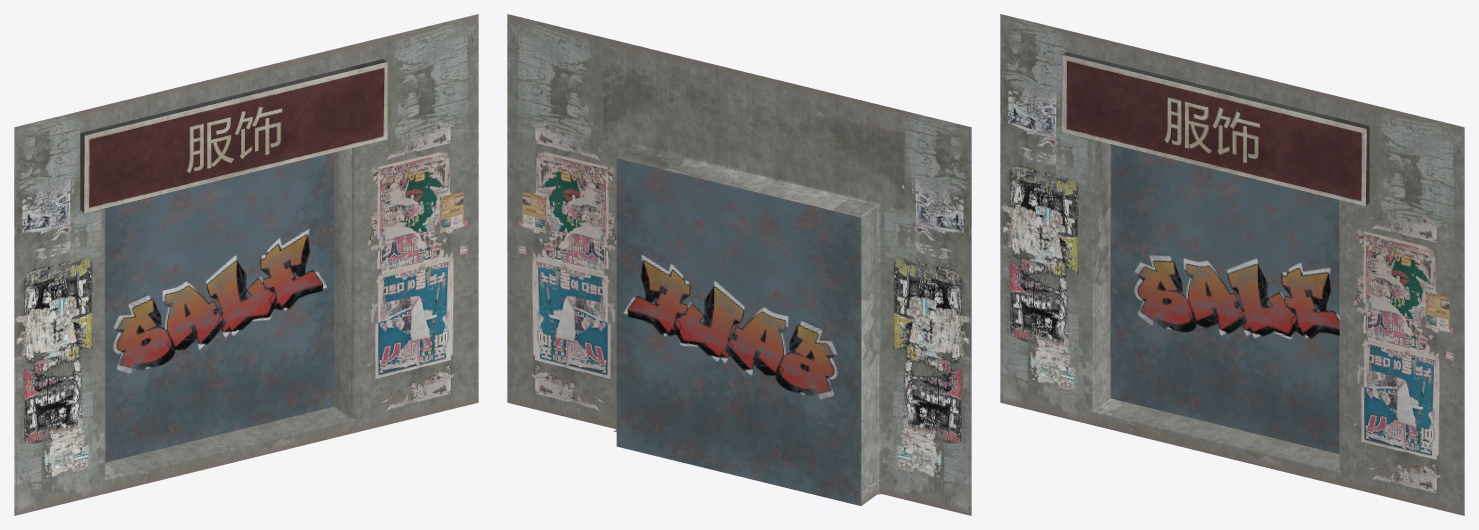
The model's file is sm_storefront_closed.glb.
3 views of the same model, side by side, from view 1: azimuth 30°, elevation 25°; view 2: azimuth 150°, elevation 25°; view 3: azimuth 330°, elevation 25° (orthographic).
Parts seen in each view (by area): view 1: sm_storefront_closed; view 2: sm_storefront_closed; view 3: sm_storefront_closed.
Boxes of the visible parts, x1,y1,x2,y2 form: sm_storefront_closed: [14, 14, 478, 515]; sm_storefront_closed: [507, 14, 971, 515]; sm_storefront_closed: [1000, 14, 1464, 515].
Bounding box in the file's own units: 5 × 4 × 0.4059.
Materials: 1 (1 with a texture image).
